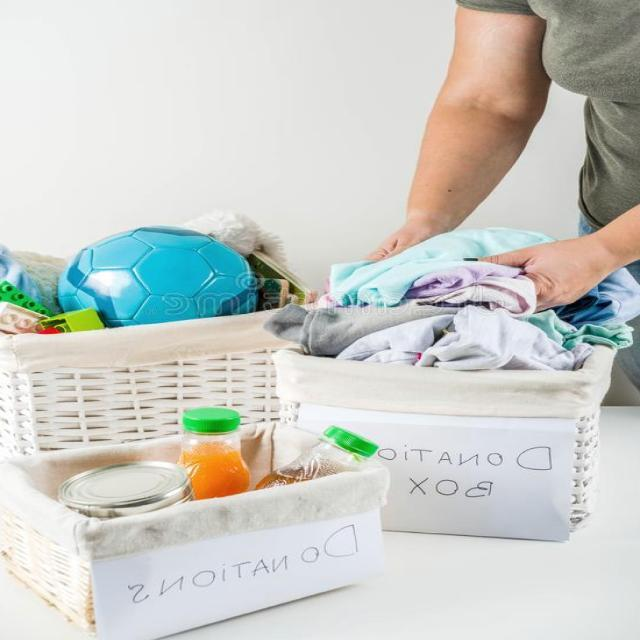clothes: (333, 286, 519, 364)
